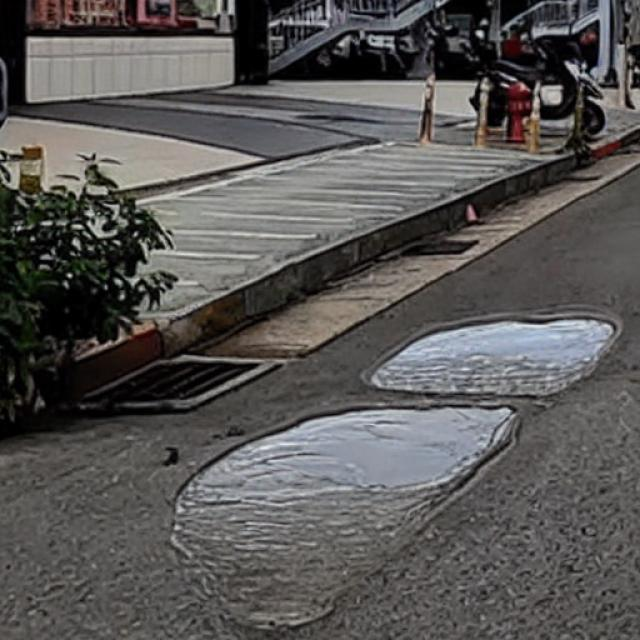puddle: (171, 408, 517, 621), (374, 316, 614, 398)
